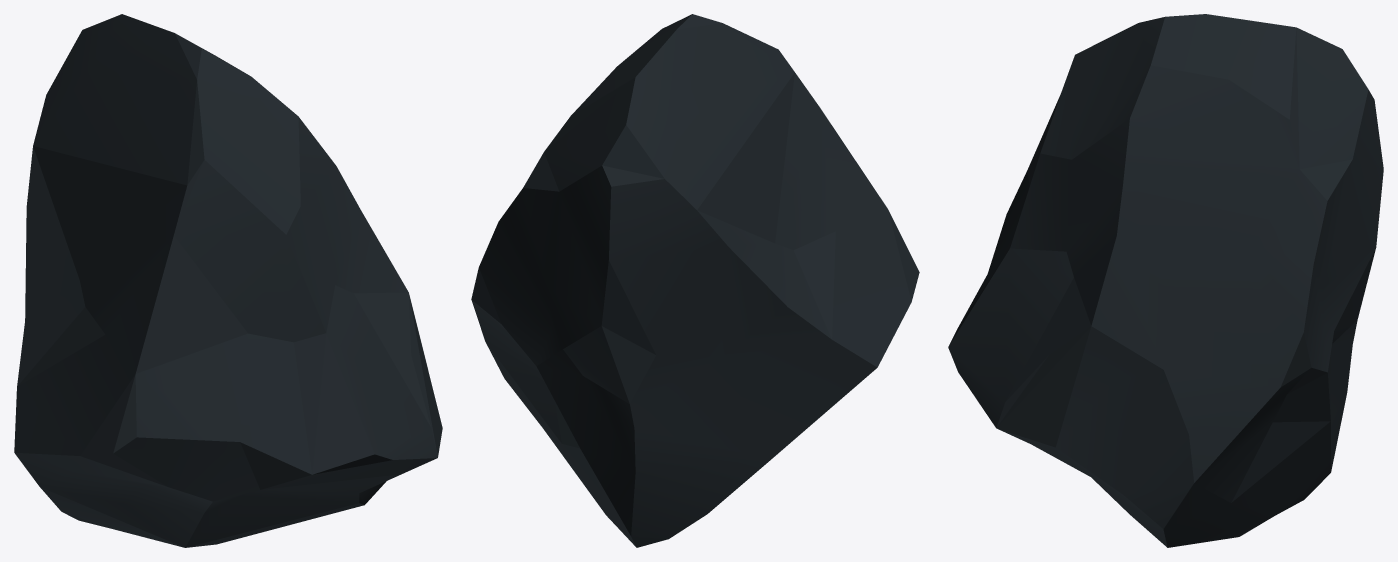
The model's file is Asteroid_s_11.FBX.
3 renders of one model, left to right at view 1: azimuth 30°, elevation 25°; view 2: azimuth 150°, elevation 25°; view 3: azimuth 270°, elevation 25°, orthographic. The views are drawn at different scales.
Visible parts, largest first — view 1: Asteroid_s_11; view 2: Asteroid_s_11; view 3: Asteroid_s_11.
Part boxes in pixels (bbox=[...]): Asteroid_s_11: bbox=[14, 14, 442, 547]; Asteroid_s_11: bbox=[471, 14, 919, 547]; Asteroid_s_11: bbox=[948, 14, 1383, 547].
Size of the model in its own units: 163 by 205 by 163.
